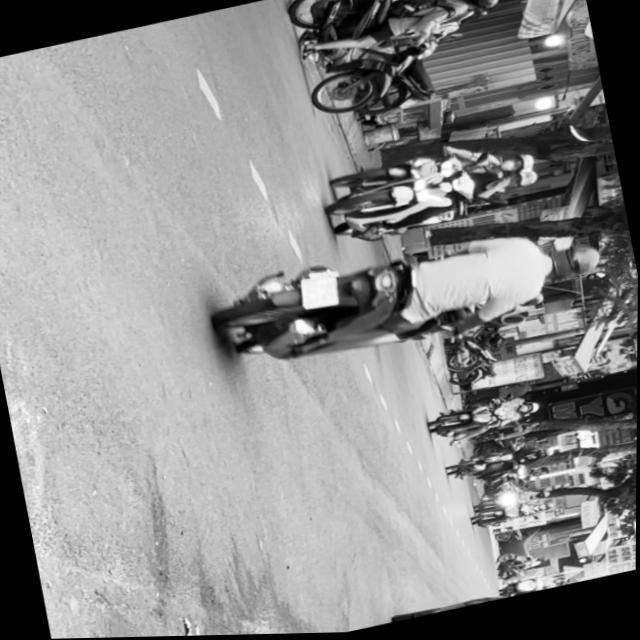helmet: (544, 239, 605, 284), (498, 152, 540, 177), (504, 168, 542, 191), (466, 0, 501, 13)
licenseplate: (207, 204, 616, 386), (283, 0, 518, 128), (323, 142, 549, 250)
nohelmet: (300, 272, 343, 312)
